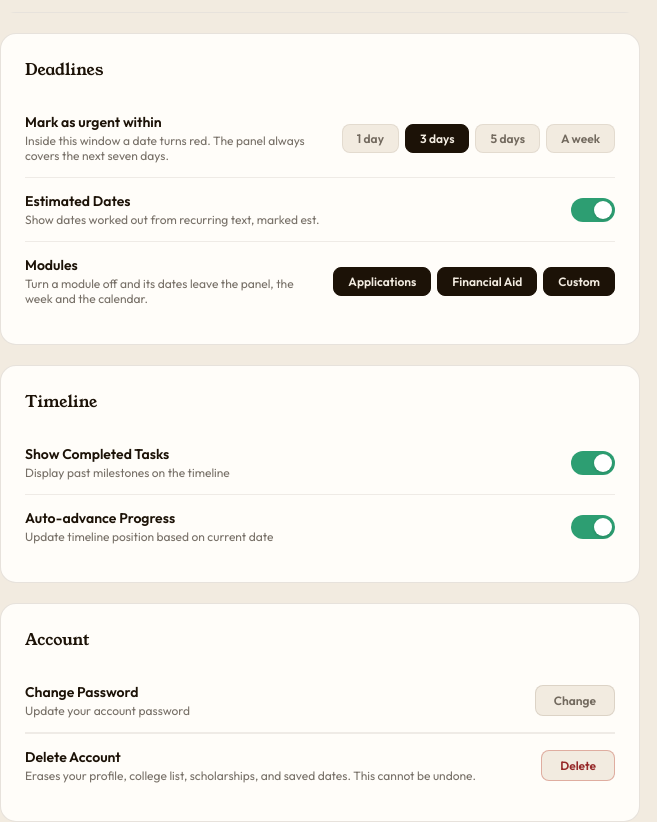
SettingsPage — deleting an account › will not delete until the word is typed
This screenshot has width=657, height=822.
(page scrolled)
Click the button "Delete".
click(578, 766)  # box [541,750,615,781]
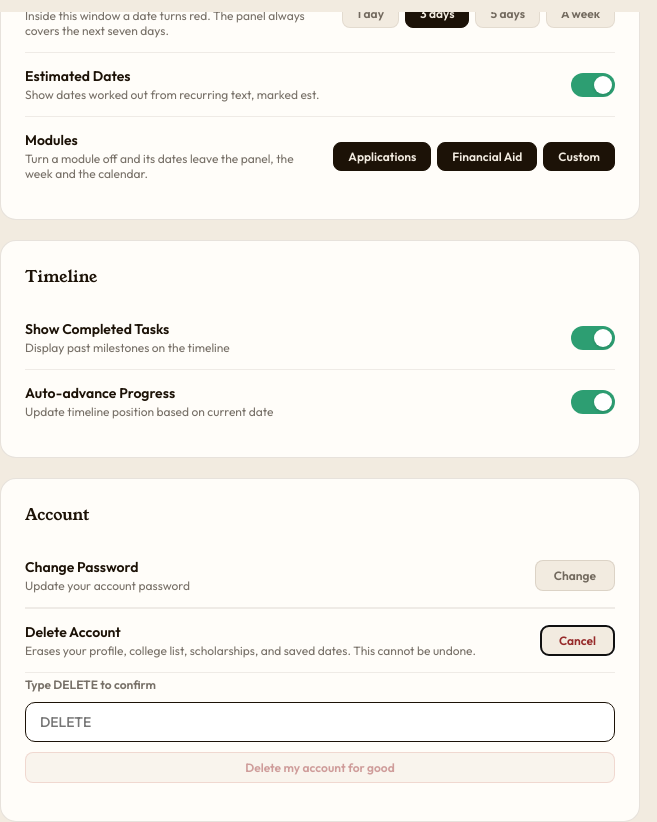
Expected: the button "Delete my account for good" is disabled, [25,752,615,783]
Type "delete" into the field labelled "Type DELETE to confirm".
click(320, 722); type("delete")  # box [25,702,615,742]
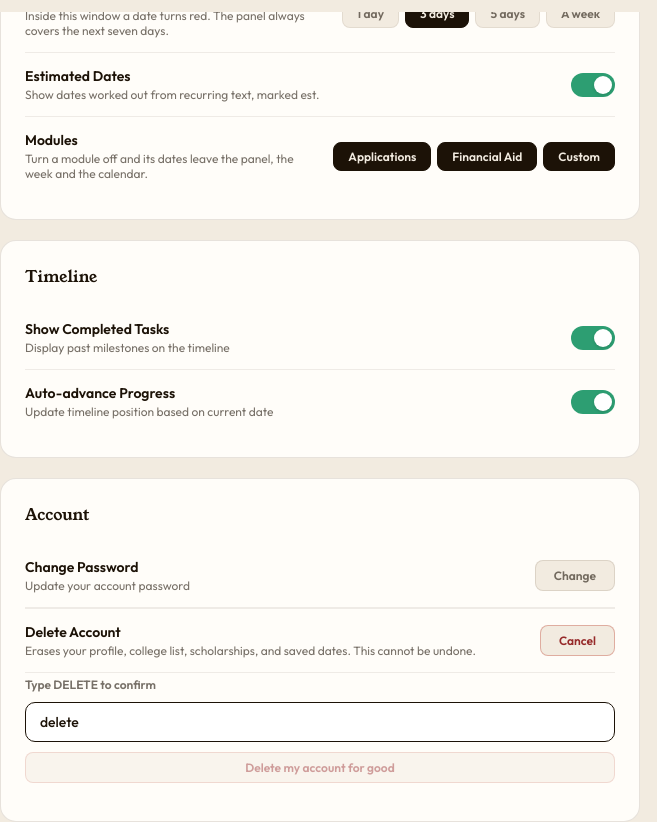
Expected: the button "Delete my account for good" is disabled, [25,752,615,783]
Replace the text in the field labelled "Type DELETE to confirm" with "DELETE" at (320, 722), box [25,702,615,742]
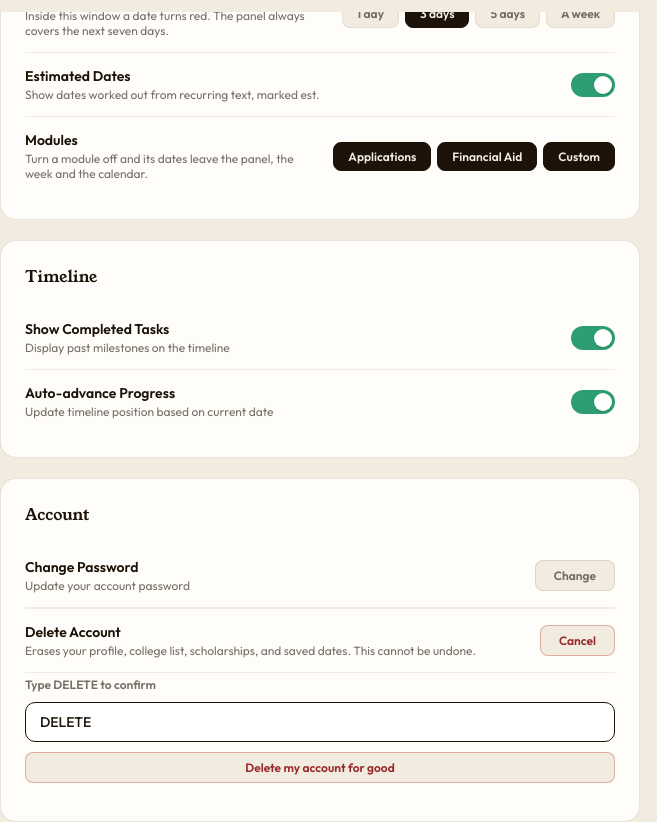
Expected: the button "Delete my account for good" is enabled, [25,752,615,783]
